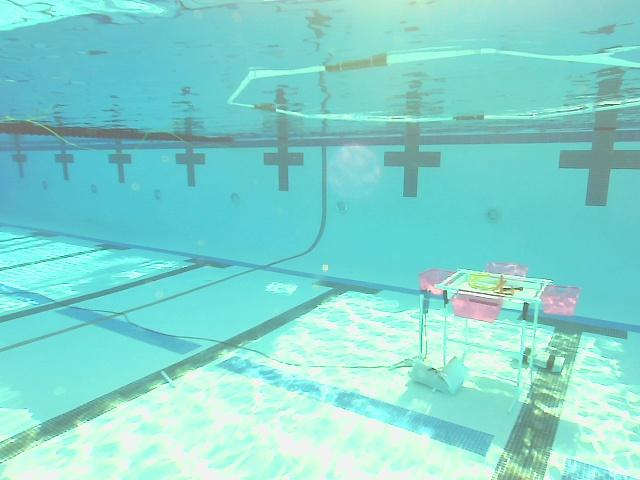table: (419, 261, 582, 401)
